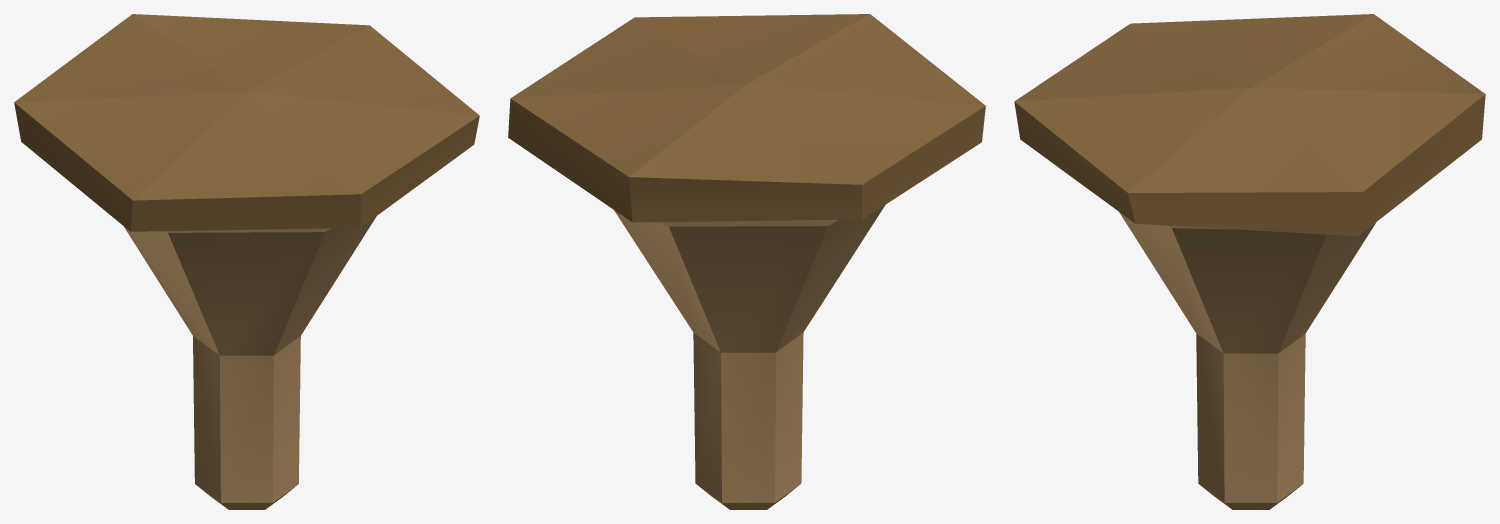
Rendered from Mushroom(4).fbx.
3 renders of one model, left to right at view 1: azimuth 30°, elevation 25°; view 2: azimuth 150°, elevation 25°; view 3: azimuth 270°, elevation 25°, orthographic.
Parts seen in each view (by area): view 1: Mushroom(4); view 2: Mushroom(4); view 3: Mushroom(4).
Boxes of the visible parts, x1,y1,x2,y2 form: Mushroom(4): [14, 14, 479, 509]; Mushroom(4): [508, 14, 985, 509]; Mushroom(4): [1014, 14, 1485, 509].
Size of the model in its own units: 0.1839 by 0.1993 by 0.2079.
